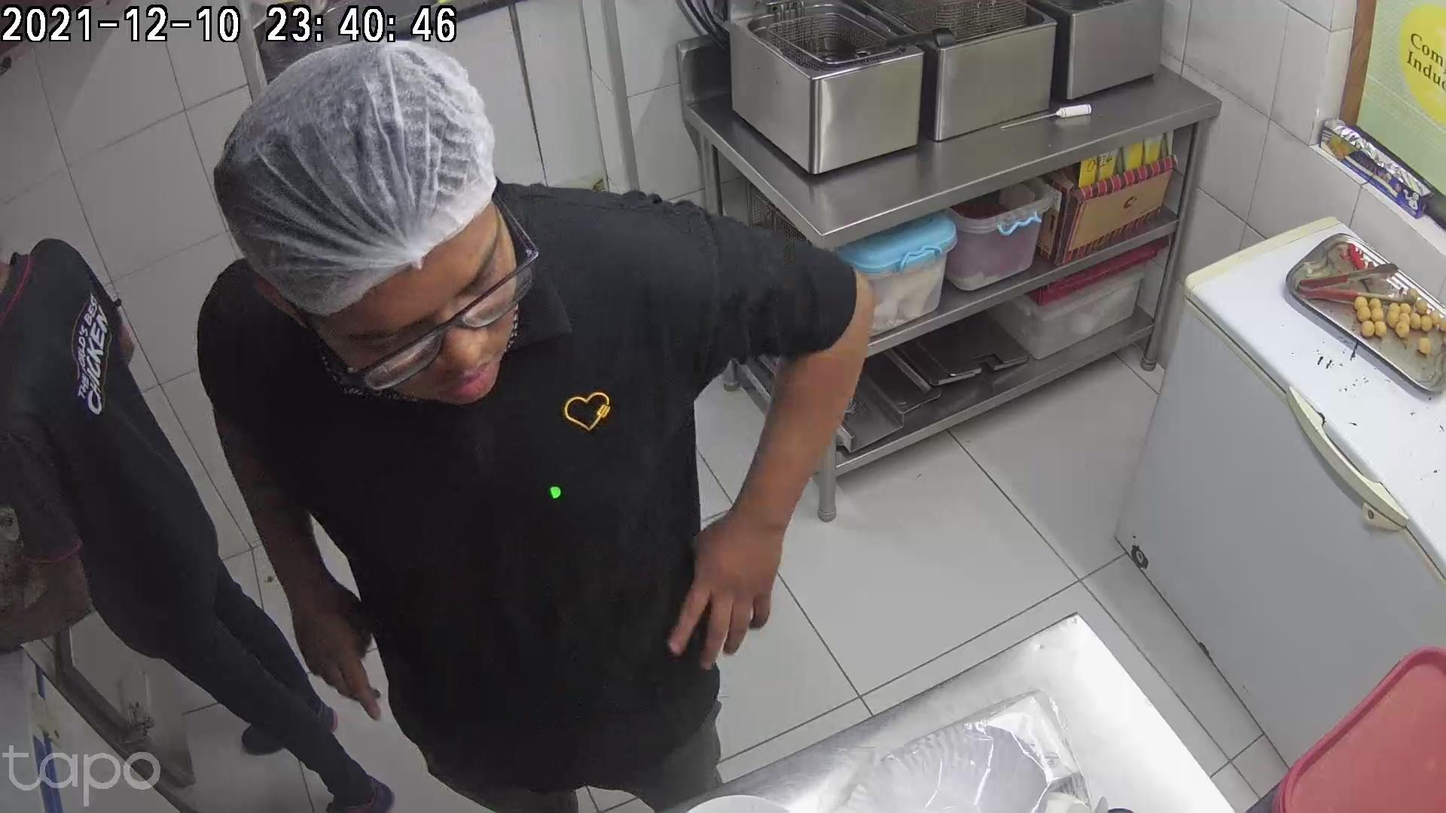no_gloves: (669, 485, 796, 671)
